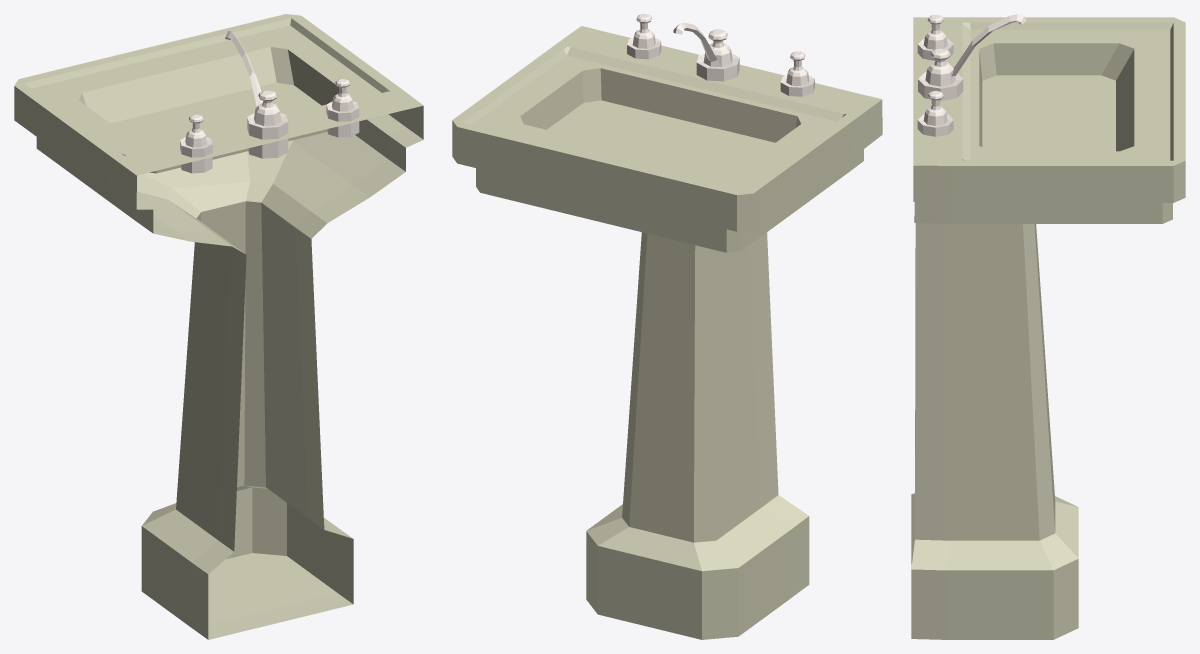
File: умывальник ванная.fbx
3 renders of one model, left to right at view 1: azimuth 30°, elevation 25°; view 2: azimuth 150°, elevation 25°; view 3: azimuth 270°, elevation 25°, orthographic. The views are drawn at different scales.
Parts seen in each view (by area): view 1: Cube.043; view 2: Cube.043; view 3: Cube.043.
Part boxes in pixels (x1,y1,x2,y2): Cube.043: (14, 14, 423, 639); Cube.043: (452, 14, 882, 639); Cube.043: (911, 14, 1185, 639).
Bounding box in the file's own units: 895 × 1650 × 697.
